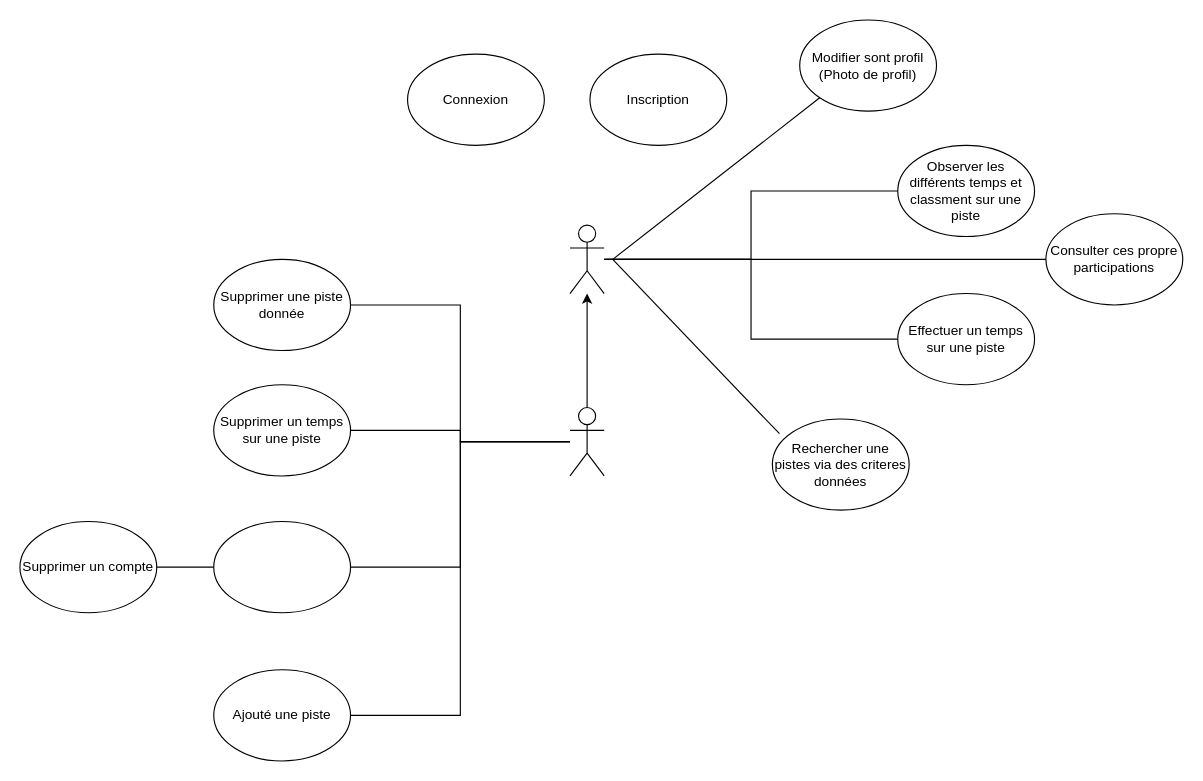
This 1203x781 diagram has some shape labels left out. Each missing label, with the box of its shape:
Admin: (569, 406, 604, 476)
Compte: (569, 224, 604, 294)
Consulter la liste des comptes: (213, 520, 351, 613)
